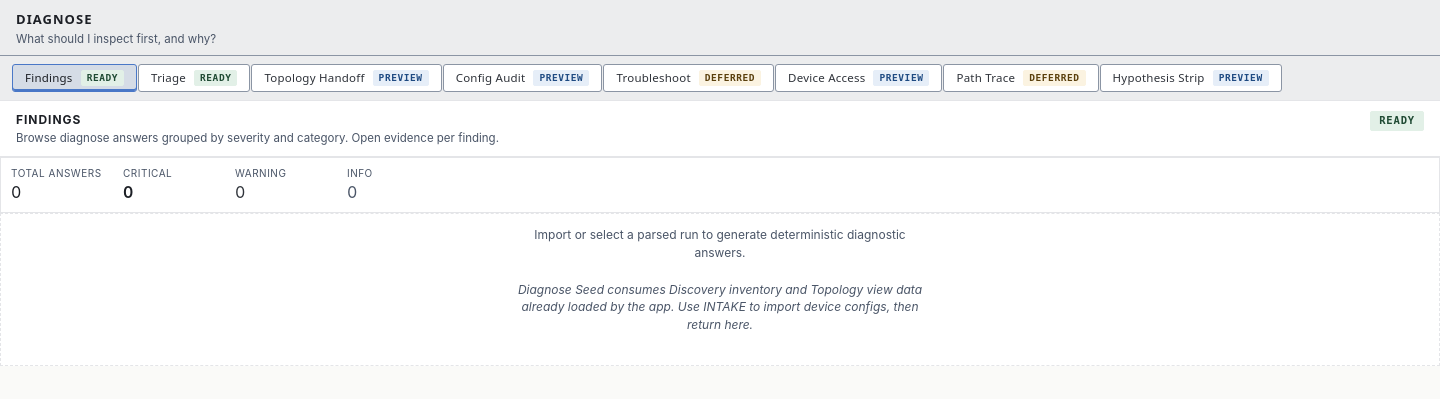
Test: DiagnoseMode — ModeWorkbenchShell integration › clicking troubleshoot shows deferred state with planned controls including Blast radius
Click the tab with test id "mwb-tool-troubleshoot": coordinates (689, 78) [603, 64, 774, 92]
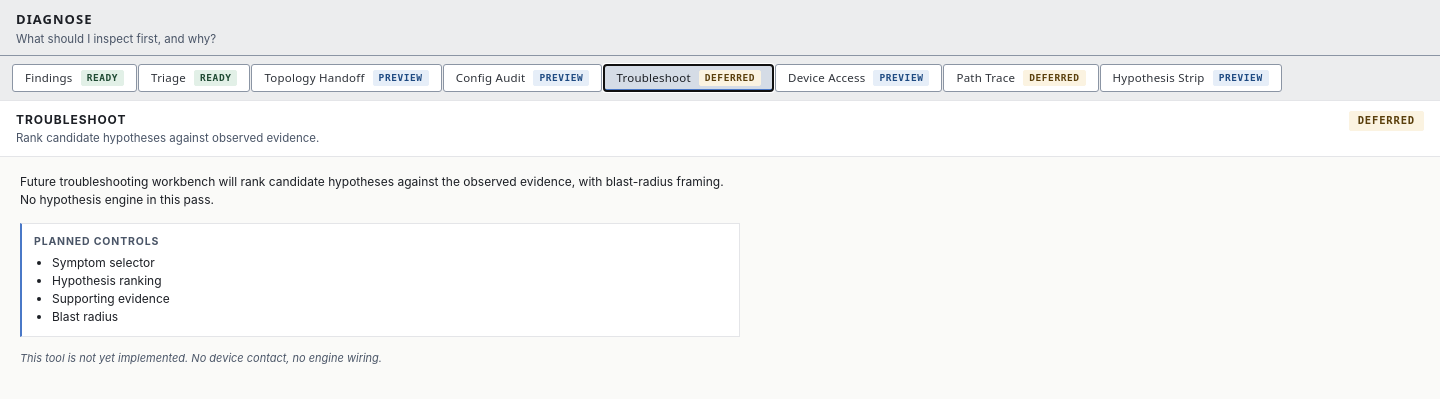
Expected: the element with test id "mwb-deferred-troubleshoot" is shown, [0, 157, 760, 383]
Expected: the list item "Blast radius" is shown, [52, 309, 118, 324]
